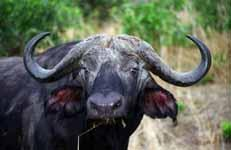Buffalo: (8, 12, 211, 150)
